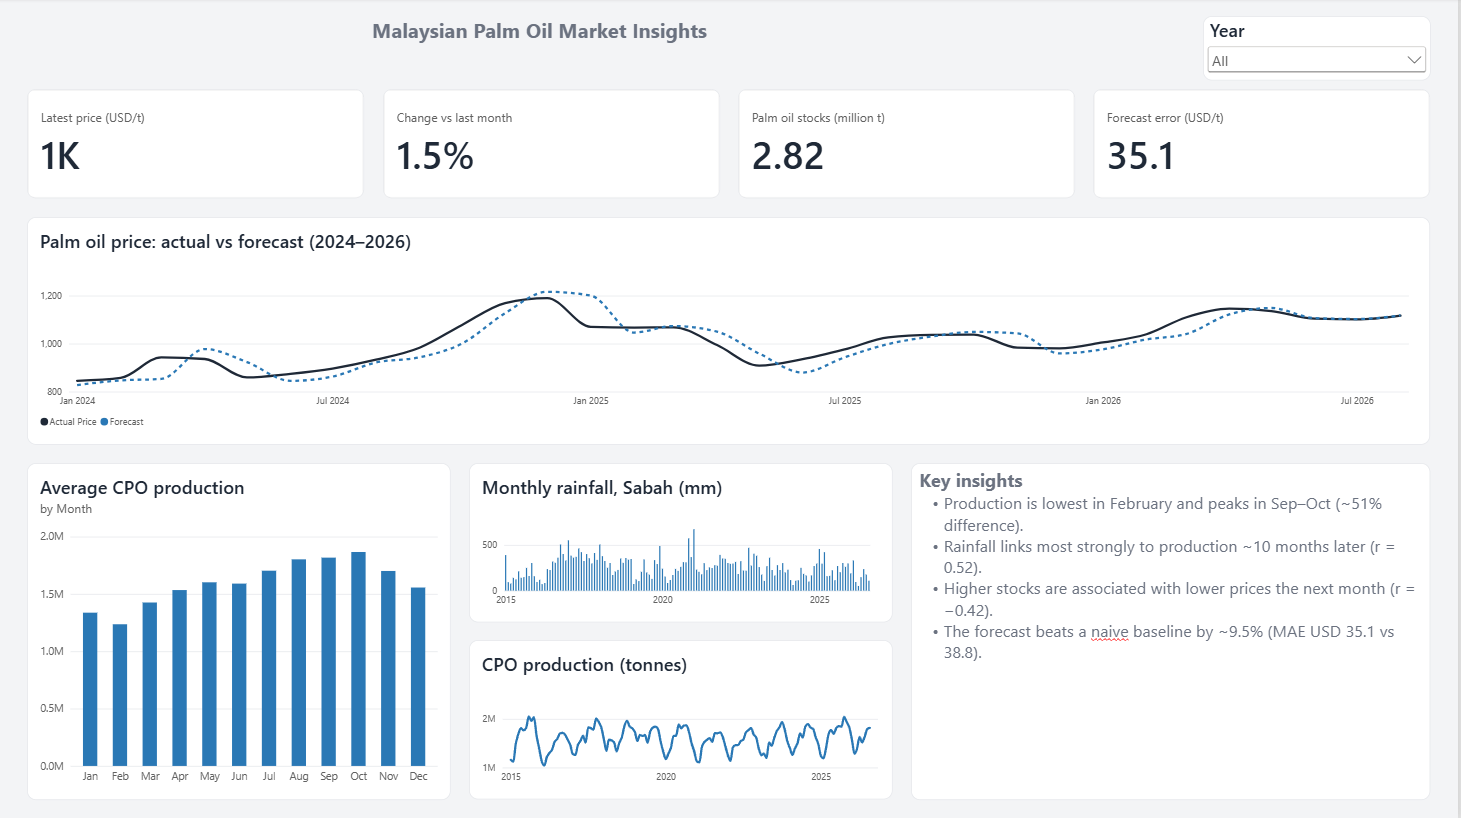

Layout of this report page (visuals, bound fields, positions):
{"tool":"powerbi","page":{"name":"Overview","canvas":[1920,1080],"ordinal":0},"visuals":[{"type":"textbox","box":[36,24,760,72.6],"z":0},{"type":"slicer","fields":{"Values":["palm_oil_monthly.Year"]},"box":[1584,24,300,84.7],"z":1000},{"type":"cardVisual","fields":{"Data":["palm_oil_monthly.Latest Price"]},"box":[36,120,444,144],"z":2000},{"type":"cardVisual","fields":{"Data":["palm_oil_monthly.Price Change %"]},"box":[504,120,444,144],"z":3000},{"type":"cardVisual","fields":{"Data":["palm_oil_monthly.Latest Stocks (Mt)"]},"box":[972,120,444,144],"z":4000},{"type":"cardVisual","fields":{"Data":["forecast.Forecast MAE"]},"box":[1440,120,444,144],"z":5000},{"type":"lineChart","title":"Palm oil price: actual vs forecast (2024–2026)","fields":{"Category":["forecast.date"],"Y":["Sum(forecast.price_usd)","Sum(forecast.pred_forest)"]},"box":[36,288,1848,300],"z":6000},{"type":"clusteredColumnChart","title":"Average CPO production by month (tonnes)","fields":{"Category":["palm_oil_monthly.Month"],"Y":["Avg(palm_oil_monthly.production_t)"]},"box":[36,612,558,444],"z":7000},{"type":"clusteredColumnChart","title":"Monthly rainfall, Sabah (mm)","fields":{"Category":["palm_oil_monthly.date"],"Y":["Sum(palm_oil_monthly.rain_mm)"]},"box":[618,612,558,210],"z":8000},{"type":"lineChart","title":"CPO production (tonnes)","fields":{"Category":["palm_oil_monthly.date"],"Y":["Sum(palm_oil_monthly.production_t)"]},"box":[618,846,558,210],"z":9000},{"type":"textbox","box":[1199.9,612.4,683.6,443.9],"z":10000},{"type":"textbox","box":[820,24,740,72],"z":10001}]}

Visuals, with their boxes in screenshot pixels (x1, y1, x2, y2), scaled from the page's 1920x1080 canvas onto the 1461x818 screenshot:
textbox: {"x1": 27, "y1": 18, "x2": 606, "y2": 73}
slicer - palm_oil_monthly.Year: {"x1": 1205, "y1": 18, "x2": 1434, "y2": 82}
cardVisual - palm_oil_monthly.Latest Price: {"x1": 27, "y1": 91, "x2": 365, "y2": 200}
cardVisual - palm_oil_monthly.Price Change %: {"x1": 384, "y1": 91, "x2": 721, "y2": 200}
cardVisual - palm_oil_monthly.Latest Stocks (Mt): {"x1": 740, "y1": 91, "x2": 1077, "y2": 200}
cardVisual - forecast.Forecast MAE: {"x1": 1096, "y1": 91, "x2": 1434, "y2": 200}
"Palm oil price: actual vs forecast (2024–2026)" lineChart: {"x1": 27, "y1": 218, "x2": 1434, "y2": 445}
"Average CPO production by month (tonnes)" clusteredColumnChart: {"x1": 27, "y1": 464, "x2": 452, "y2": 800}
"Monthly rainfall, Sabah (mm)" clusteredColumnChart: {"x1": 470, "y1": 464, "x2": 895, "y2": 623}
"CPO production (tonnes)" lineChart: {"x1": 470, "y1": 641, "x2": 895, "y2": 800}
textbox: {"x1": 913, "y1": 464, "x2": 1433, "y2": 800}
textbox: {"x1": 624, "y1": 18, "x2": 1187, "y2": 73}
